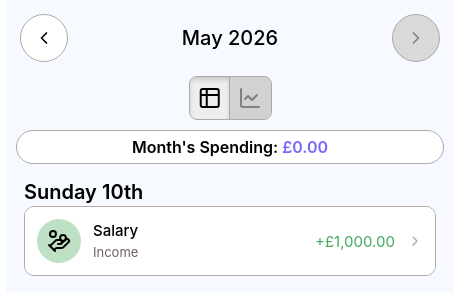
Test: TransactionsView month navigation › skips empty months and navigates only through months with data
Expected: the button named "Next month" is disabled, [392,14,440,62]
Click the button named "Previous month".
click(44, 38)  # box [20,14,68,62]
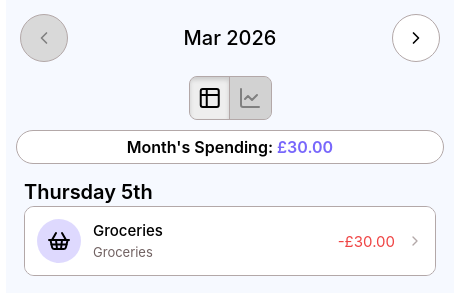
Result: the text "Mar 2026" is shown at [184,28,276,48]
Result: the button named "Previous month" is disabled at [20,14,68,62]
Result: the button named "Next month" is enabled at [392,14,440,62]
